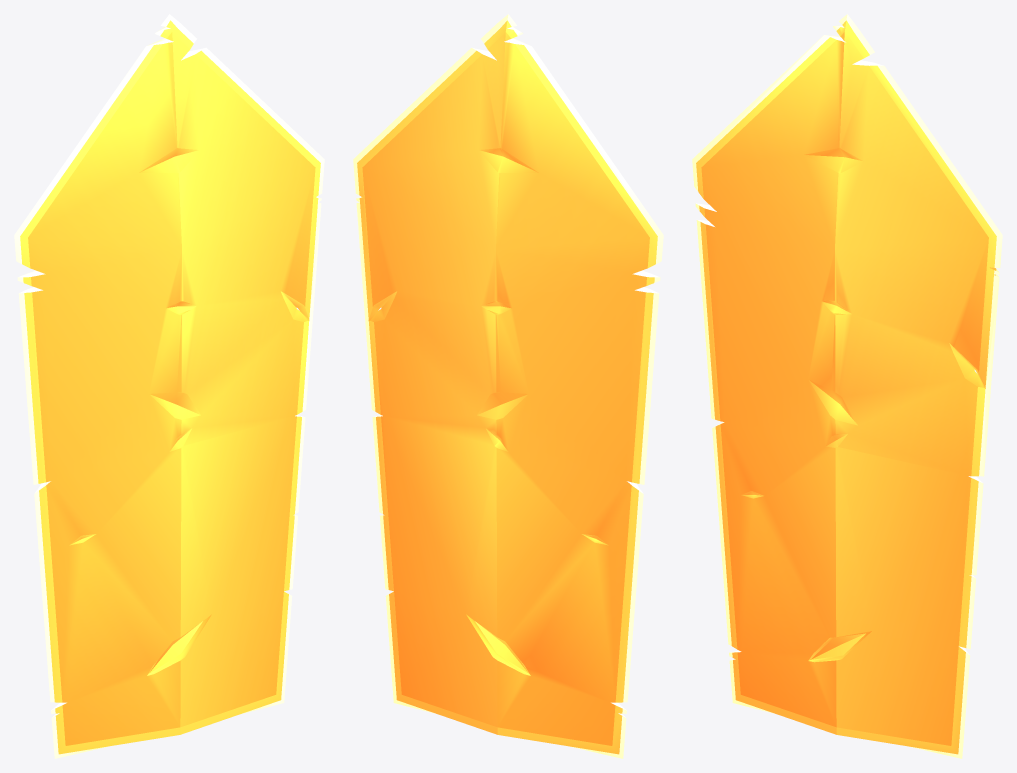
File: gold_blade_scratched_043.glb
3 views of the same model, side by side, from view 1: azimuth 30°, elevation 25°; view 2: azimuth 150°, elevation 25°; view 3: azimuth 330°, elevation 25° (orthographic).
Parts seen in each view (by area): view 1: gold_blade_scratched.043; view 2: gold_blade_scratched.043; view 3: gold_blade_scratched.043.
Part boxes in pixels (box(x1,y1,x2,y2)): gold_blade_scratched.043: box(14, 14, 324, 758); gold_blade_scratched.043: box(353, 14, 663, 758); gold_blade_scratched.043: box(692, 14, 1002, 758).
Bounding box in the file's own units: 5.17 × 11.43 × 0.7262.
Materials: 1 (1 with a texture image).
